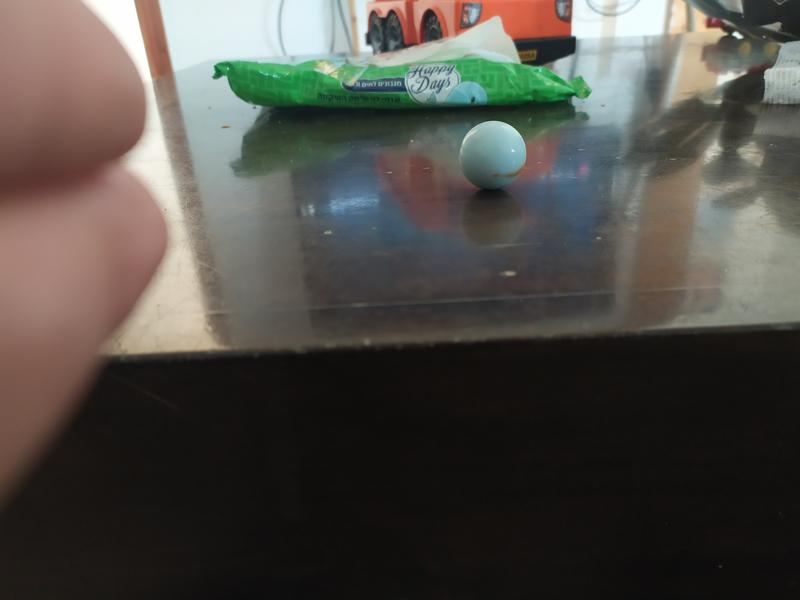Warning: (456, 118, 530, 193)
